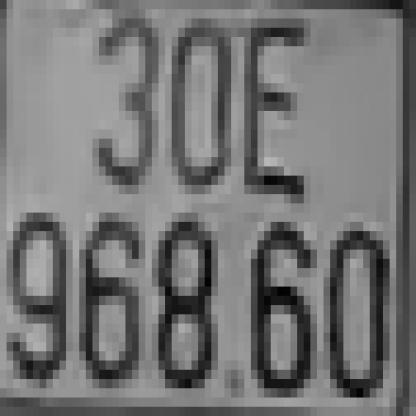0: (324, 213, 383, 388), (172, 28, 224, 185)
3: (92, 18, 158, 185)
6: (79, 203, 139, 379), (244, 213, 304, 379)
8: (158, 213, 211, 379)
9: (7, 213, 66, 379)
E: (237, 19, 304, 204)
